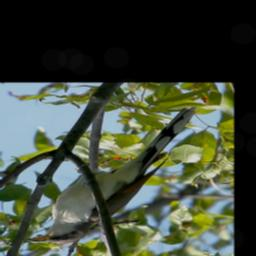Cuckoo: (25, 106, 198, 245)
